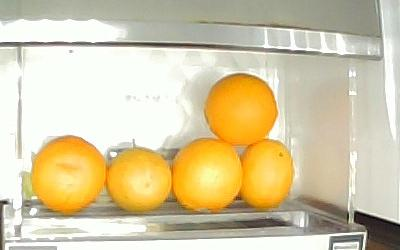orange: (32, 135, 107, 215), (204, 73, 278, 145), (171, 139, 244, 211), (106, 147, 172, 212), (238, 139, 294, 209)
